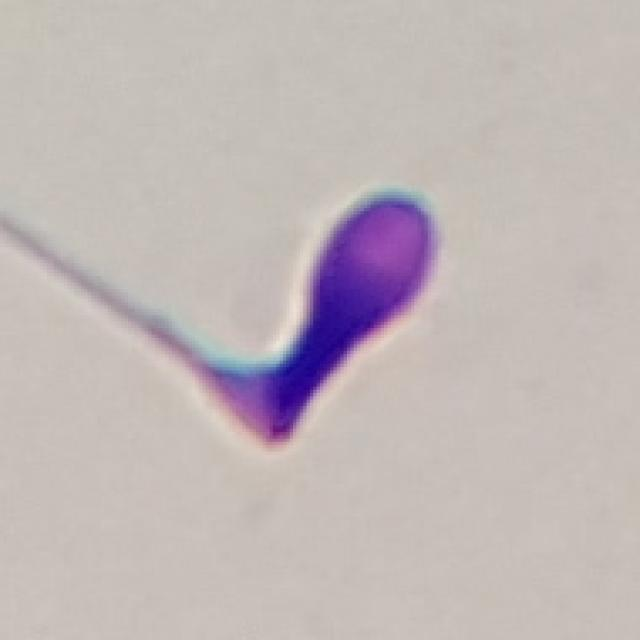abnormal sperm: (2, 163, 479, 463)
